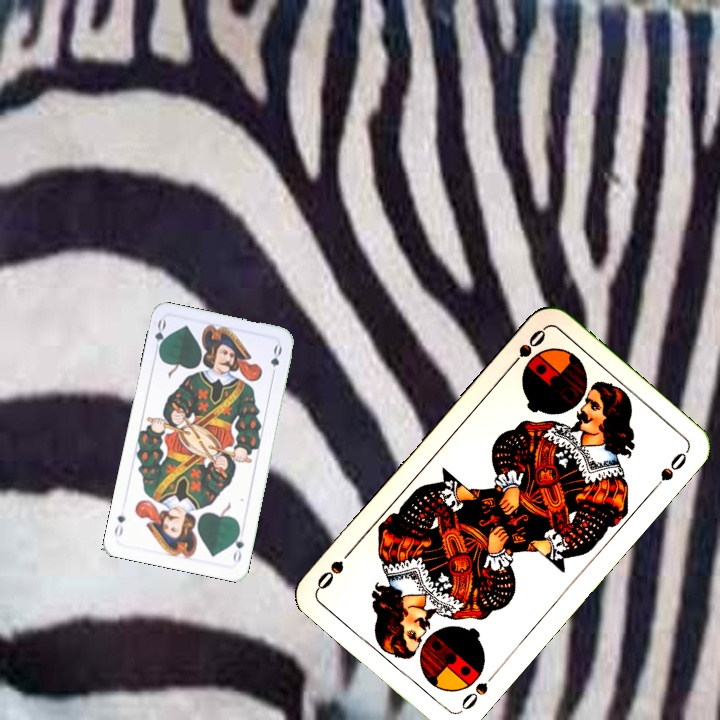GO: (150, 316, 170, 357), (229, 525, 247, 566)
SO: (504, 324, 549, 373), (456, 667, 500, 715)
